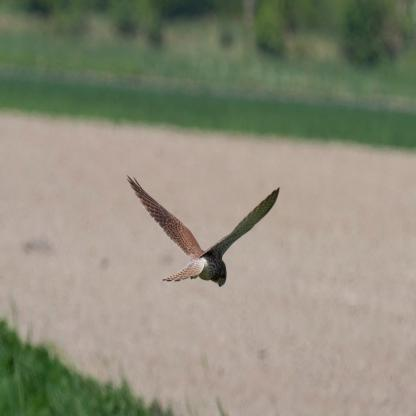bird: (127, 174, 280, 288)
